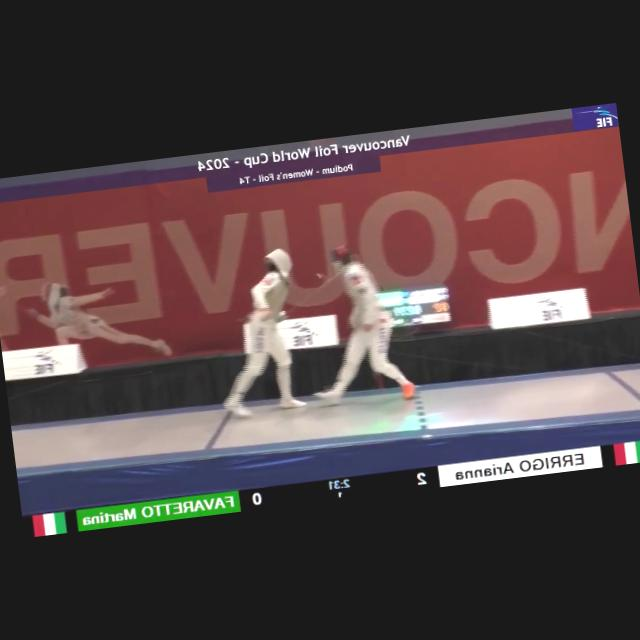blade: (274, 260, 356, 318)
